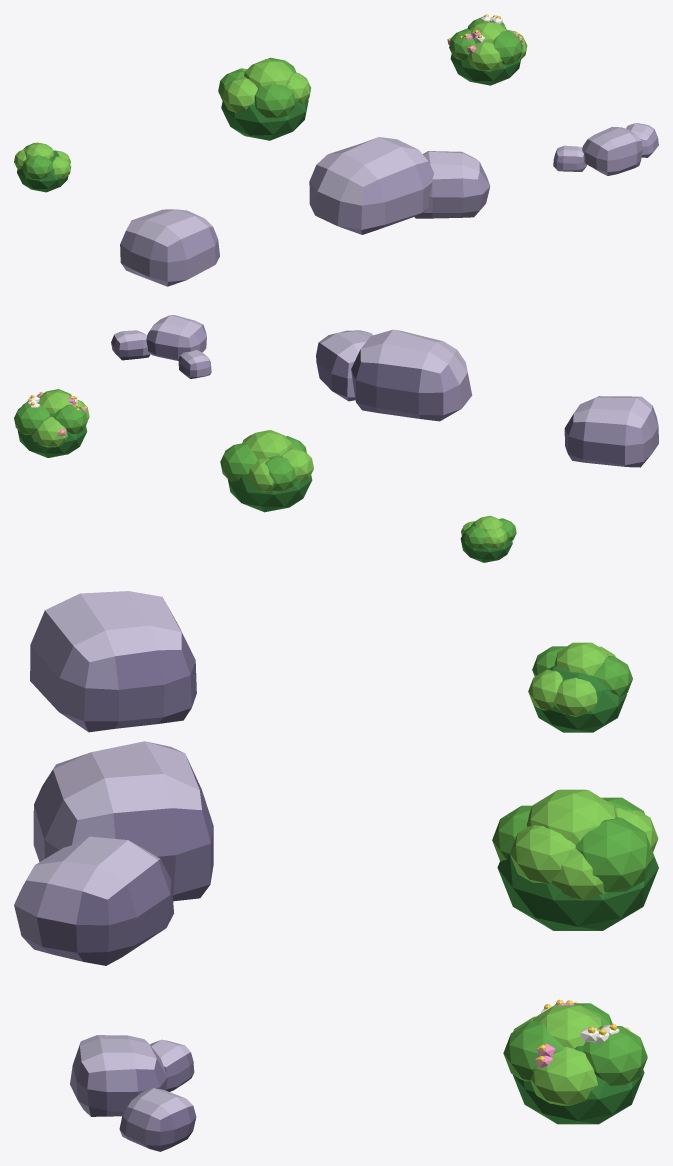
File: IslandScatterKit.glb
3 views of the same model, one above another, from view 1: azimuth 30°, elevation 25°; view 2: azimuth 150°, elevation 25°; view 3: azimuth 270°, elevation 25° (orthographic). The views are drawn at different scales.
Parts seen in each view (by area): view 1: RockPair__Rock_Side, RockPair__Rock_Top, RockSingle__Rock_Side, BushBig__Leaf_Light, RockCluster__Rock_Side, RockSingle__Rock_Top, BushBig__Leaf_Dark, BushBig__Leaf_Mid, BushFlower__Leaf_Light, BushFlower__Leaf_Mid, RockCluster__Rock_Top, BushFlower__Leaf_Dark (+3 smaller); view 2: RockPair__Rock_Shadow, RockPair__Rock_Top, BushBig__Leaf_Light, RockSingle__Rock_Side, RockSingle__Rock_Top, BushBig__Leaf_Mid, RockSingle__Rock_Shadow, RockPair__Rock_Side, BushBig__Leaf_Dark, BushFlower__Leaf_Mid, RockCluster__Rock_Side, RockCluster__Rock_Top (+6 smaller); view 3: RockPair__Rock_Shadow, RockPair__Rock_Top, BushBig__Leaf_Light, RockSingle__Rock_Shadow, RockSingle__Rock_Top, RockPair__Rock_Side, BushBig__Leaf_Mid, BushBig__Leaf_Dark, RockSingle__Rock_Side, BushFlower__Leaf_Mid, BushFlower__Leaf_Light, RockCluster__Rock_Top (+6 smaller).
Part boxes in pixels (<box>): RockPair__Rock_Side: <box>309,161,490,229</box>; RockPair__Rock_Top: <box>316,137,479,205</box>; RockSingle__Rock_Side: <box>120,226,219,286</box>; BushBig__Leaf_Light: <box>222,59,310,113</box>; RockCluster__Rock_Side: <box>553,129,658,175</box>; RockSingle__Rock_Top: <box>126,209,212,246</box>; BushBig__Leaf_Dark: <box>221,99,308,140</box>; BushBig__Leaf_Mid: <box>218,57,296,118</box>; BushFlower__Leaf_Light: <box>456,20,527,71</box>; BushFlower__Leaf_Mid: <box>449,16,522,64</box>; RockCluster__Rock_Top: <box>556,123,653,157</box>; BushFlower__Leaf_Dark: <box>450,54,520,85</box>; RockPair__Rock_Shadow: <box>316,342,460,421</box>; RockPair__Rock_Top: <box>319,329,467,384</box>; BushBig__Leaf_Light: <box>242,430,313,492</box>; RockSingle__Rock_Side: <box>583,406,658,466</box>; RockSingle__Rock_Top: <box>573,396,652,428</box>; BushBig__Leaf_Mid: <box>220,436,306,491</box>; RockSingle__Rock_Shadow: <box>564,414,643,467</box>; RockPair__Rock_Side: <box>347,361,472,414</box>; BushBig__Leaf_Dark: <box>227,473,312,512</box>; BushFlower__Leaf_Mid: <box>14,389,87,434</box>; RockCluster__Rock_Side: <box>119,324,211,376</box>; RockCluster__Rock_Top: <box>114,315,209,364</box>; RockPair__Rock_Shadow: <box>22,756,213,965</box>; RockPair__Rock_Top: <box>26,741,201,899</box>; BushBig__Leaf_Light: <box>510,789,658,900</box>; RockSingle__Rock_Shadow: <box>59,633,196,732</box>; RockSingle__Rock_Top: <box>45,591,181,662</box>; RockPair__Rock_Side: <box>14,769,115,946</box>; BushBig__Leaf_Mid: <box>492,797,654,892</box>; BushBig__Leaf_Dark: <box>497,852,658,930</box>; RockSingle__Rock_Side: <box>30,602,190,720</box>; BushFlower__Leaf_Mid: <box>503,1003,647,1085</box>; BushFlower__Leaf_Light: <box>513,1005,647,1105</box>; RockCluster__Rock_Top: <box>80,1035,192,1119</box>.
Bounding box in the file's own units: 38.9 × 5.78 × 22.36.
